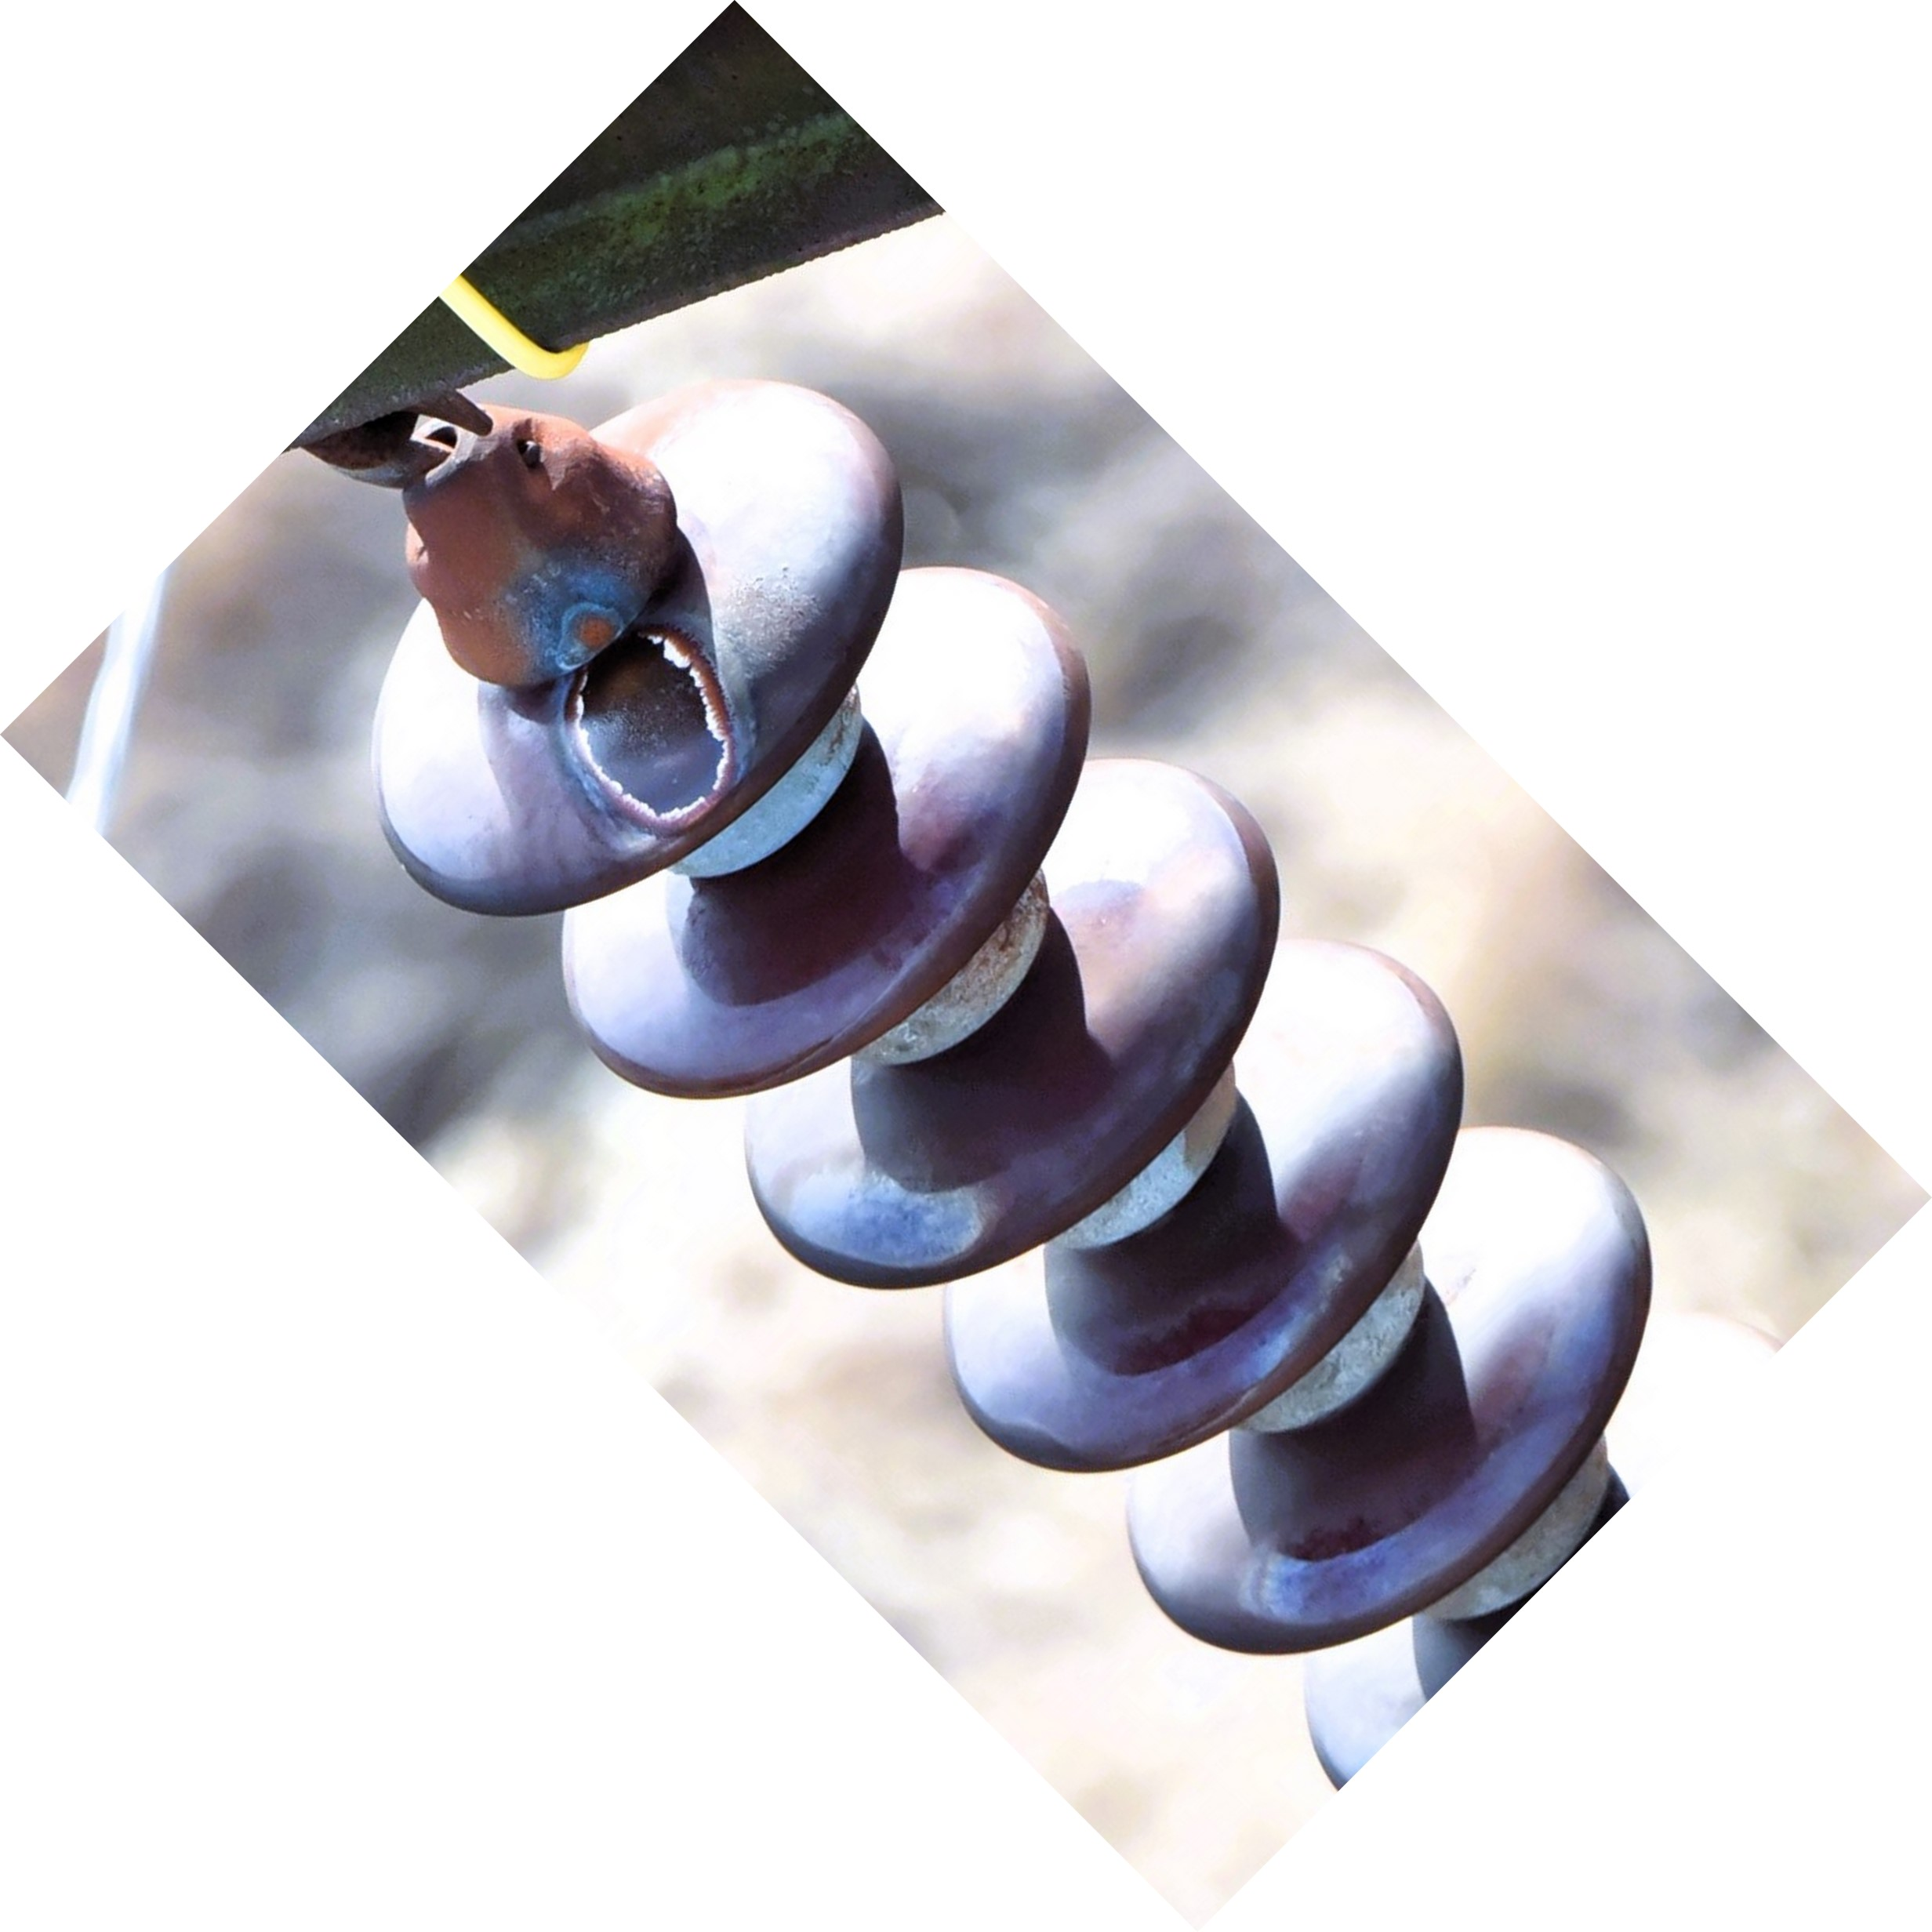Insulator flashover: (364, 350, 920, 924)
